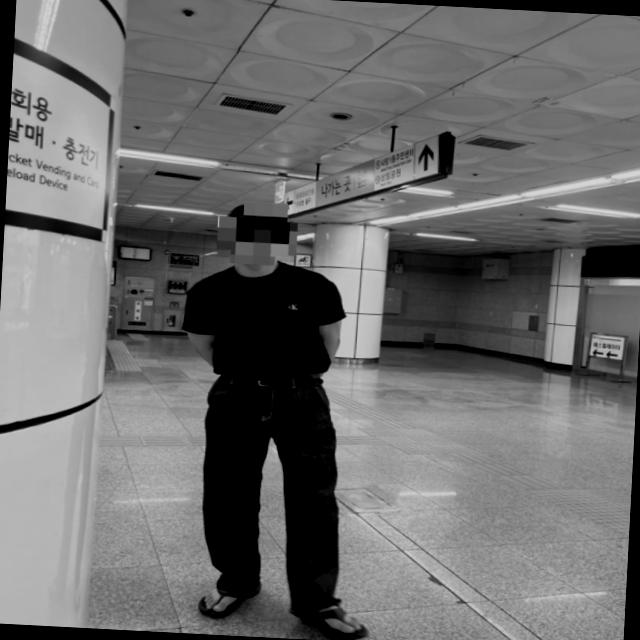denimpants: (198, 369, 348, 616)
shortsleeve: (180, 254, 348, 380)
